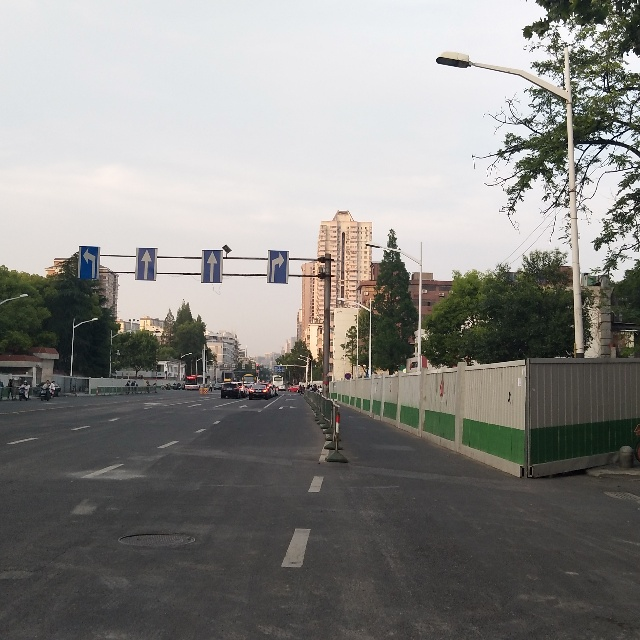left: (79, 246, 99, 279)
right: (268, 248, 288, 282)
straight: (139, 246, 157, 280), (204, 251, 222, 283)
